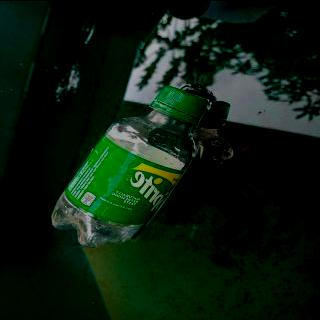bottle: (48, 84, 210, 248)
